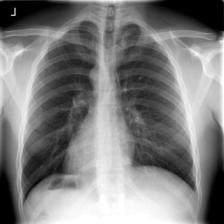normal: (15, 13, 204, 211)
